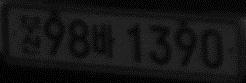0: (200, 27, 225, 70)
1: (123, 22, 147, 62)
3: (148, 23, 173, 65)
8: (67, 17, 92, 60)
9: (42, 16, 65, 57), (175, 25, 197, 67)
바: (92, 22, 115, 58)
부산_V: (19, 13, 42, 56)
